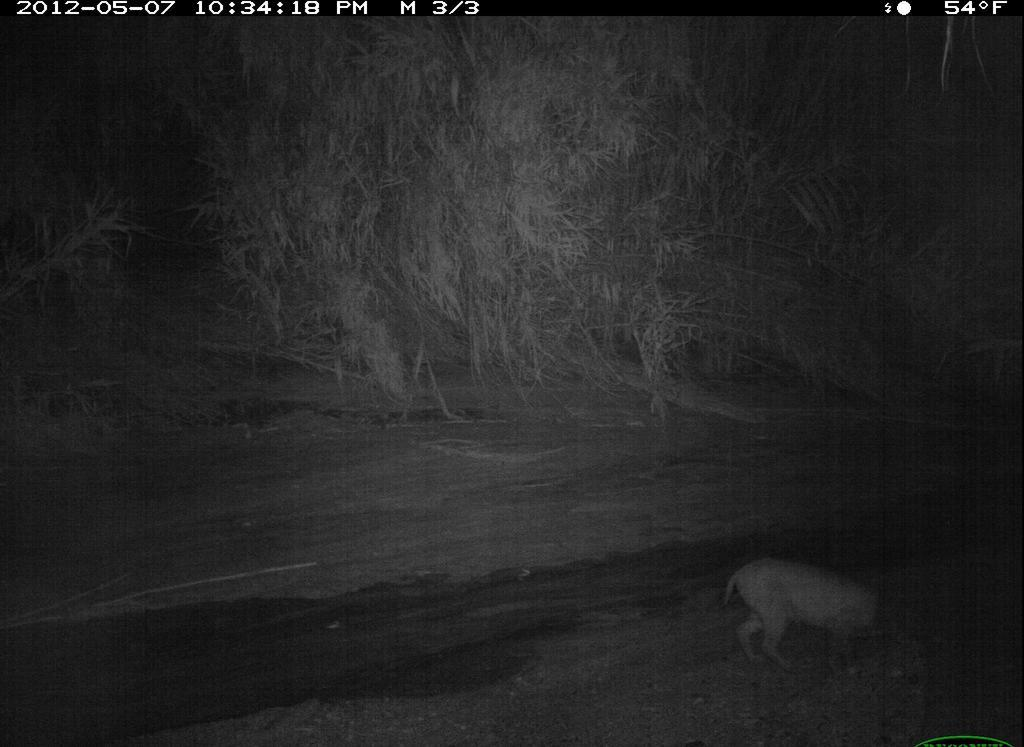bobcat: (712, 545, 918, 690)
